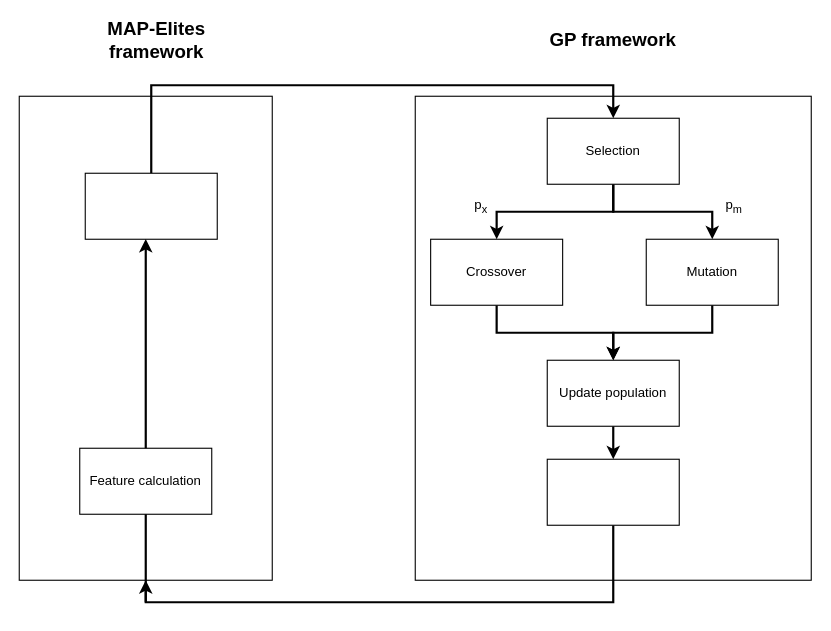
Image size: 831x631. Some labels were removed from this diagram. Here are the shapes that lost their labels. From the top down, the centre of each, then its label:
the point at 150,205: Grid updation
the point at 612,491: Evaluation
